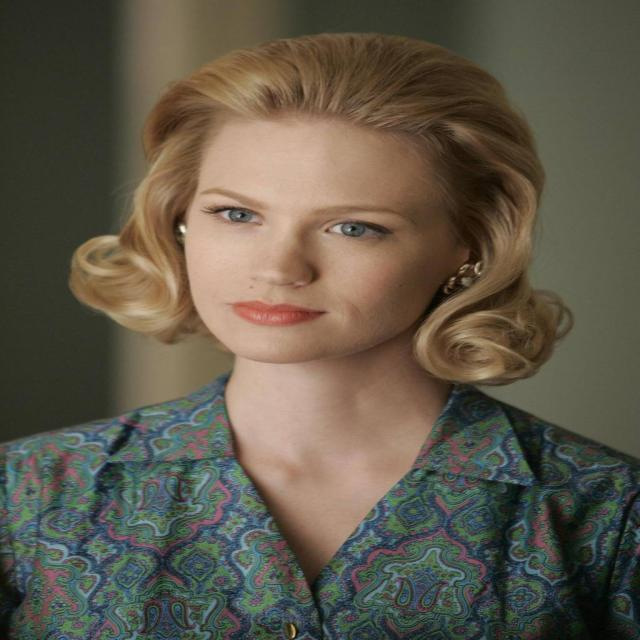mobile_phonerotation: (2, 31, 638, 638)
